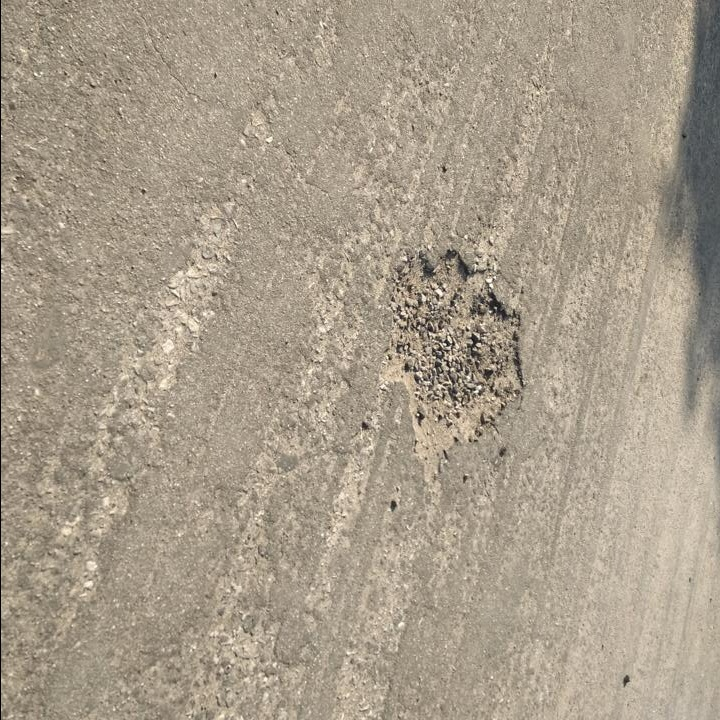pothole: (373, 242, 530, 483)
